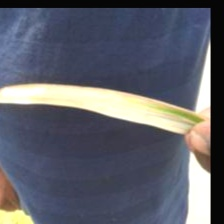Leaf_Blast: (0, 82, 178, 108)
